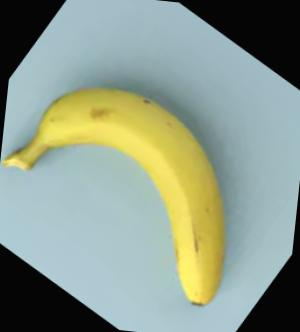Banana Ripe: (0, 21, 264, 317)
